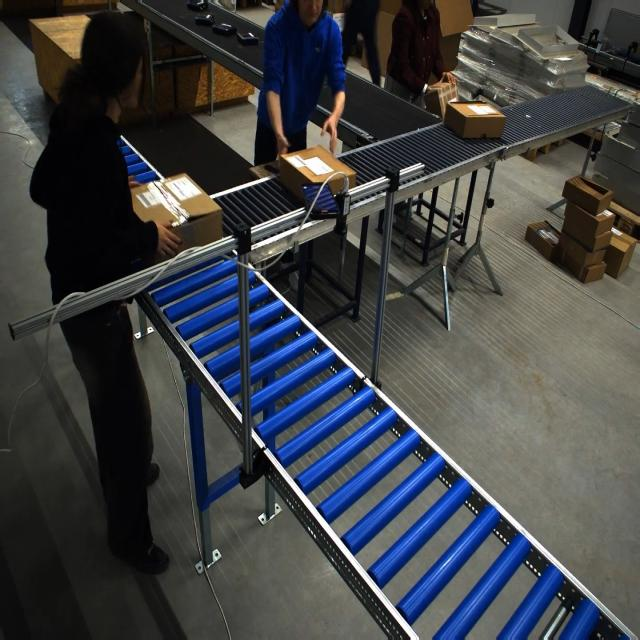box: (132, 172, 223, 255), (281, 145, 350, 204), (443, 98, 506, 139)
product: (212, 22, 236, 36), (237, 31, 259, 45), (195, 14, 214, 26), (187, 0, 207, 11)
